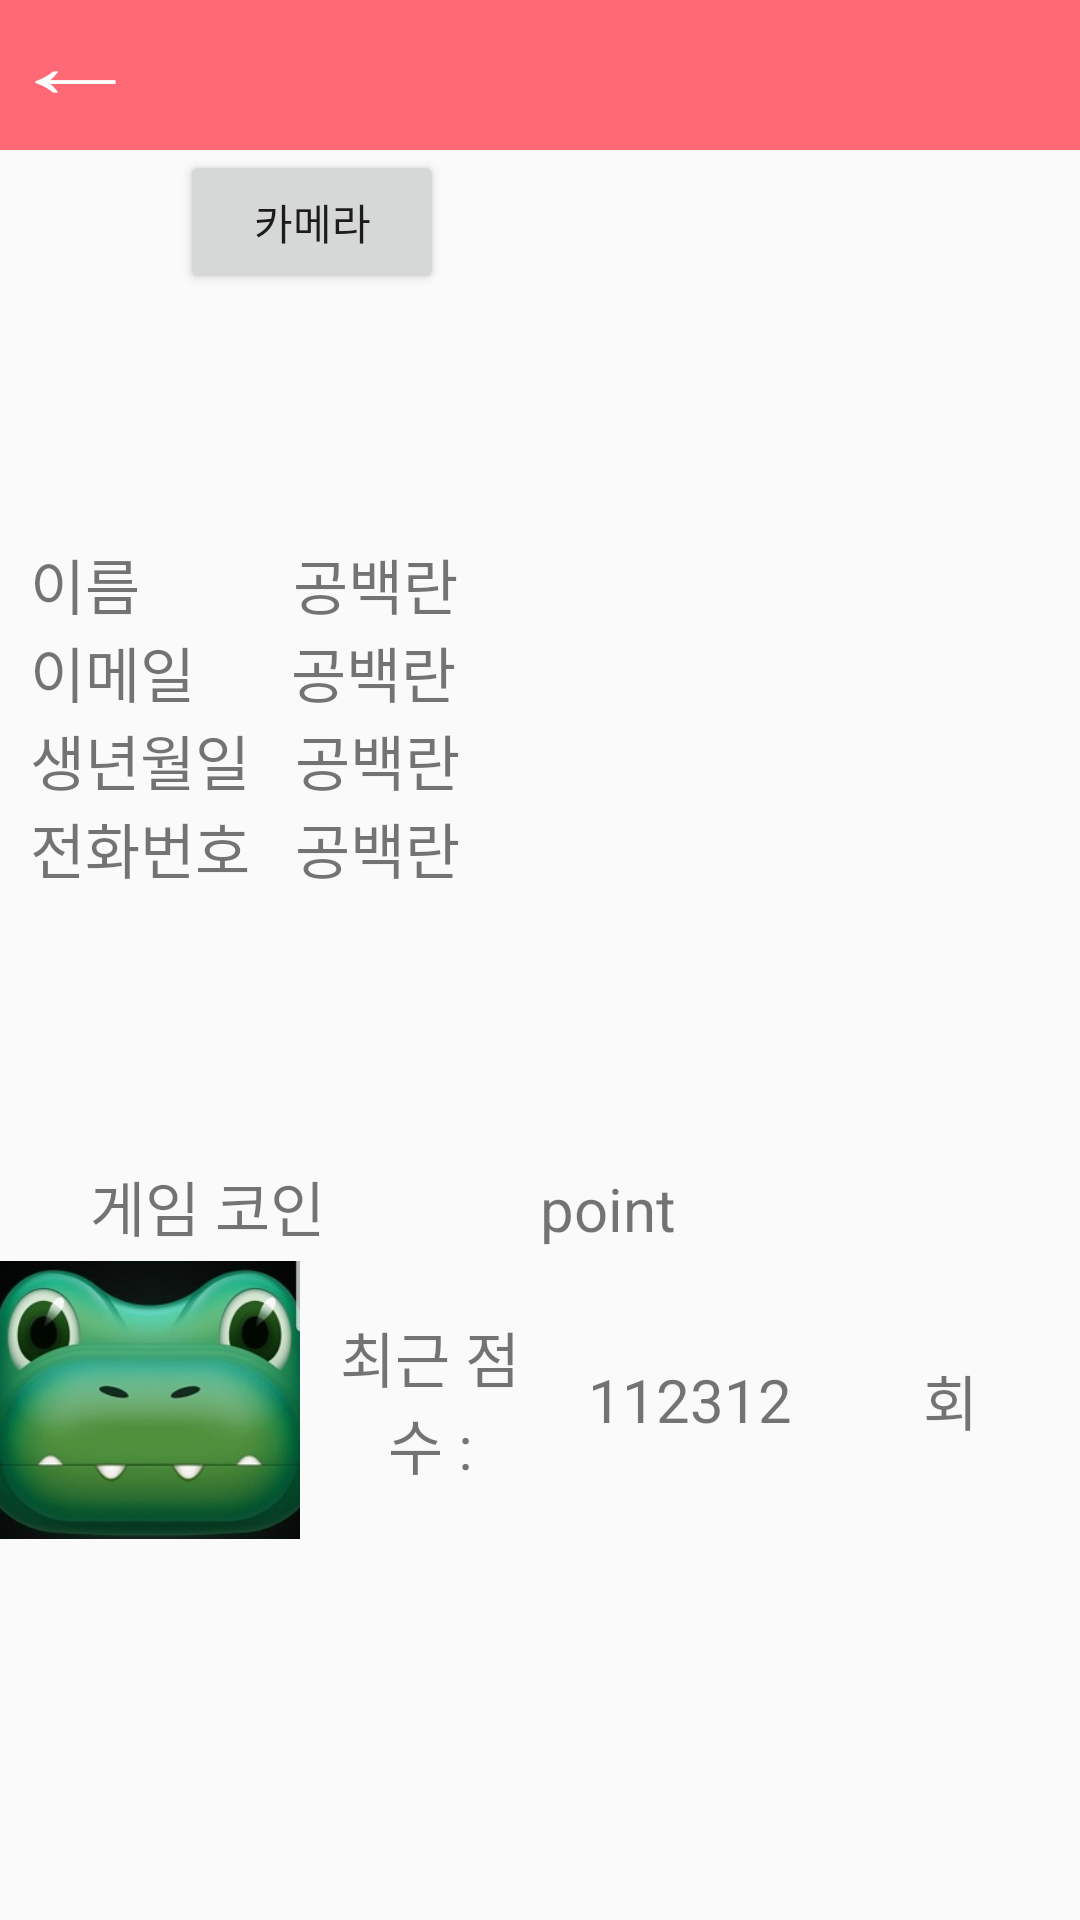

Point at icon controls on the screen. Image size 1080px x 1920px, points as (x=x, y=y).
crokoifno: (x=150, y=1400)
